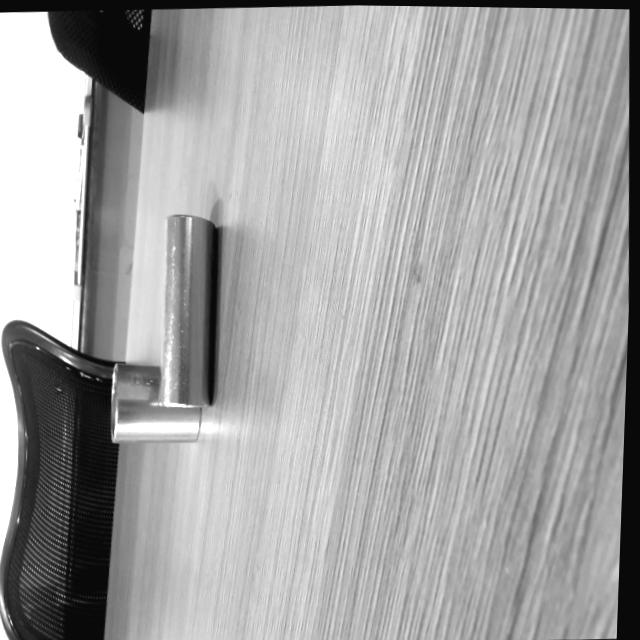Co_Lon: (159, 213, 217, 407)
Co_Nho: (110, 362, 201, 442)
